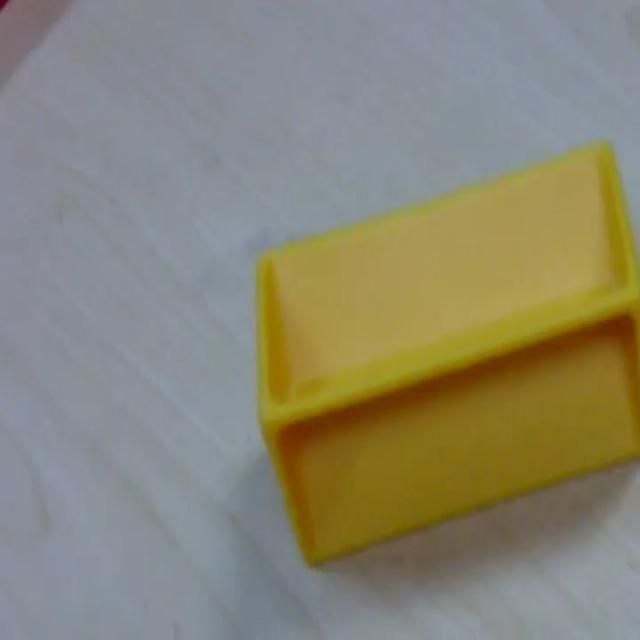yellow_block: (253, 136, 636, 567)
